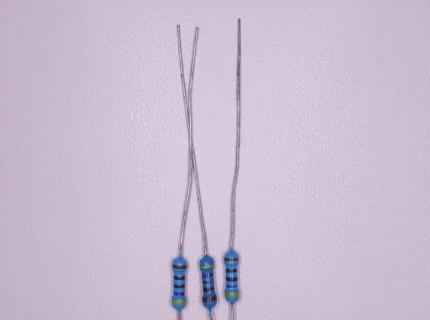Black band: (203, 286, 215, 292), (226, 276, 238, 282), (173, 284, 185, 289), (202, 280, 214, 285), (226, 269, 238, 273), (174, 276, 185, 280)
Brown band: (202, 295, 218, 303), (224, 257, 239, 262), (173, 264, 187, 269)
Violet band: (202, 272, 213, 278), (173, 291, 185, 296), (227, 285, 238, 288)
Yellow band: (172, 299, 187, 305), (199, 265, 215, 270), (225, 292, 239, 297)
